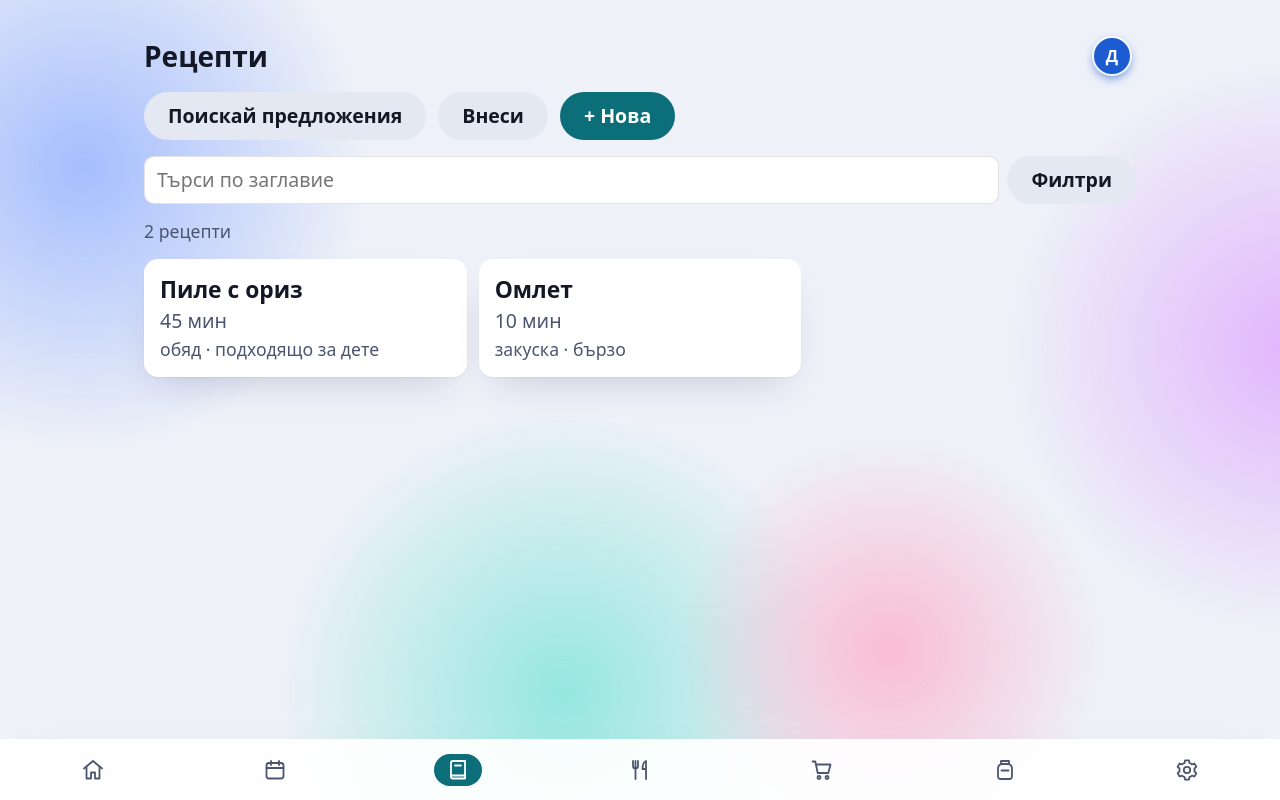
RecipeList › над списъка е броят: „2 рецепти“ без филтри, „1 от 2“ при търсене или филтър
Expected: the text "2 рецепти" is shown, top-left (144, 219), bottom-right (231, 243)
Type "омлет" into the search field labelled "Търси" at (572, 180), box top-left (144, 156), bottom-right (999, 204)
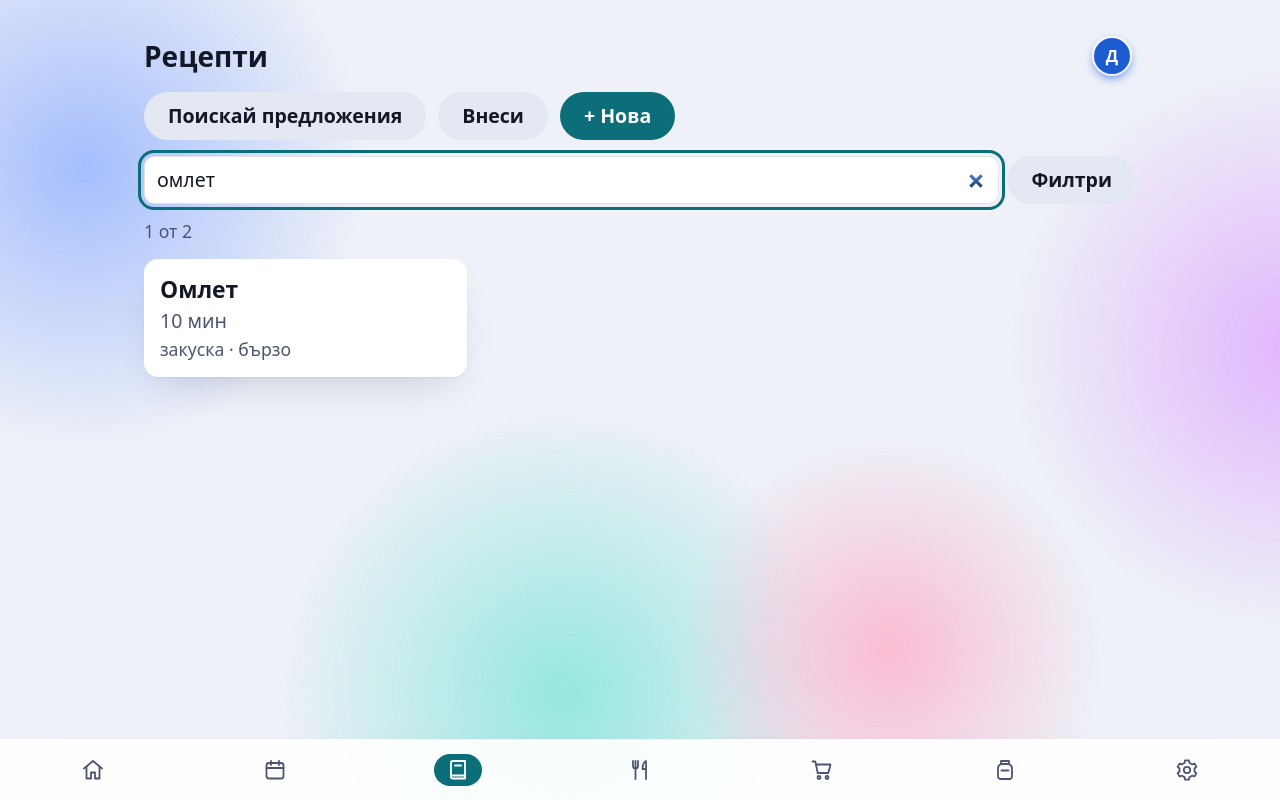
Expected: the text "1 от 2" is shown, top-left (144, 219), bottom-right (192, 243)
Clear the search field named "Търси" at (572, 180), box top-left (144, 156), bottom-right (999, 204)
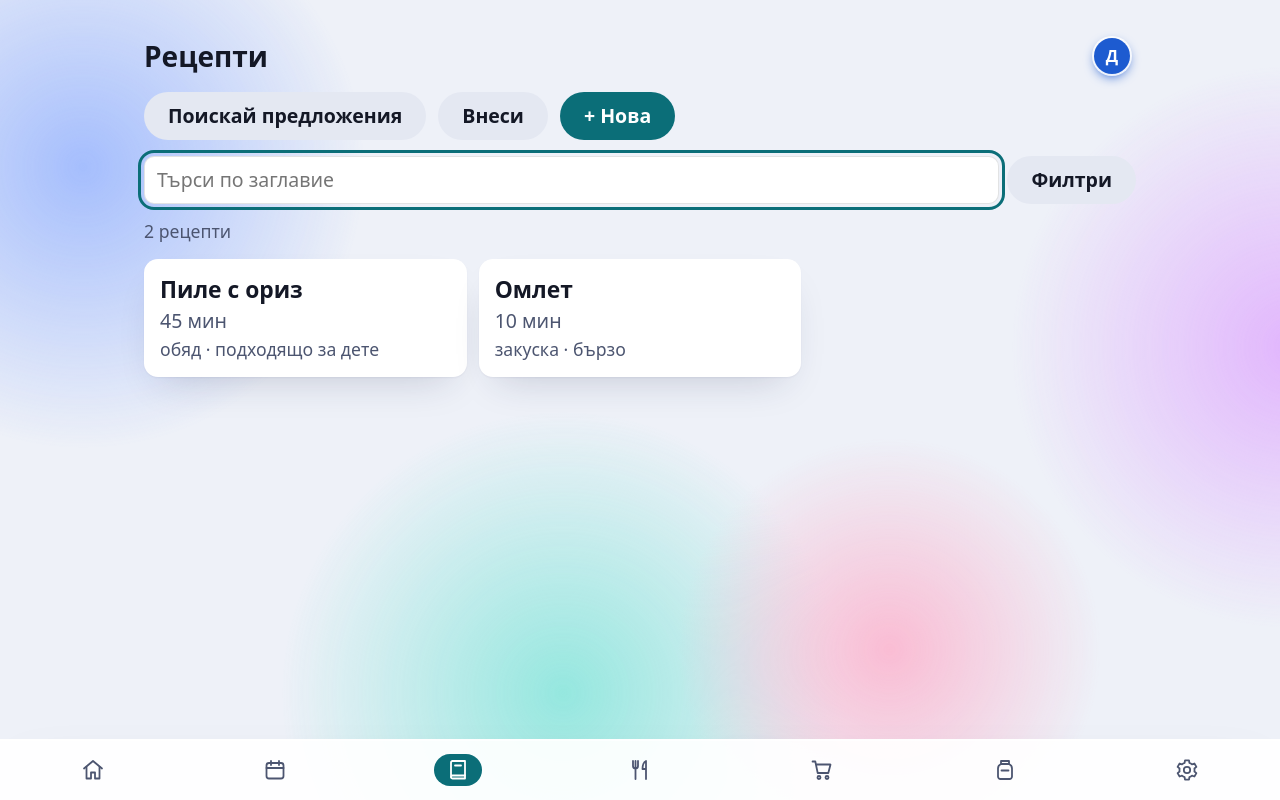
Expected: the text "2 рецепти" is shown, top-left (144, 219), bottom-right (231, 243)
Click the button "Филтри" at (1072, 180), box top-left (1007, 156), bottom-right (1136, 204)
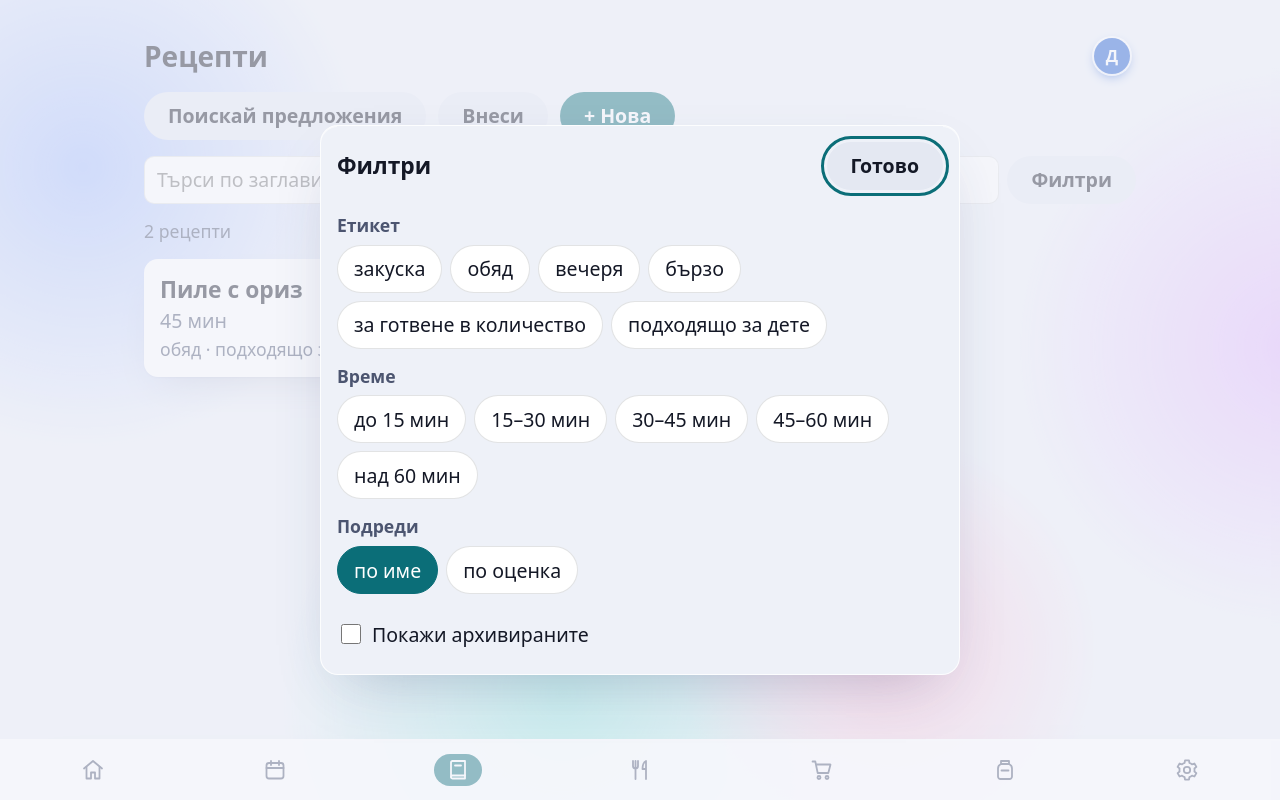
Click the button "закуска" at (390, 269), box top-left (337, 245), bottom-right (442, 293)
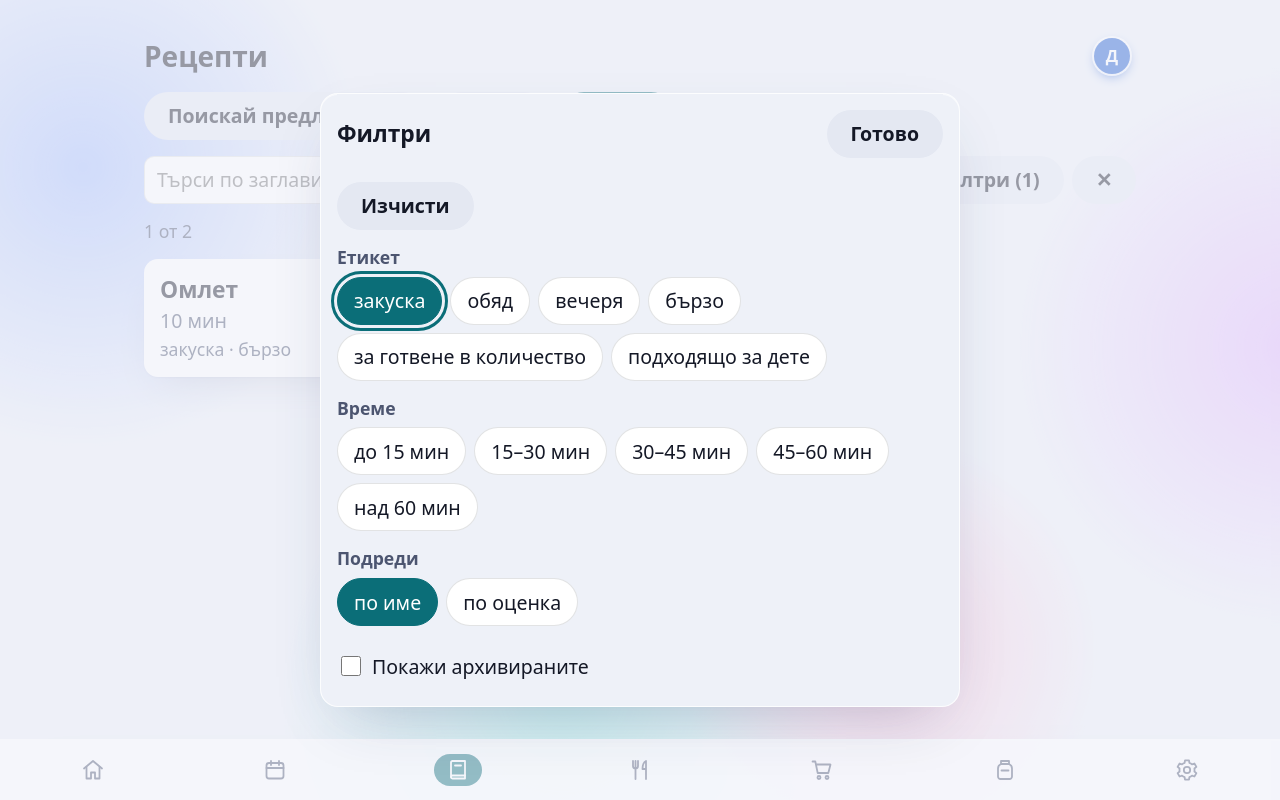
Expected: the text "1 от 2" is shown, top-left (144, 219), bottom-right (192, 243)
